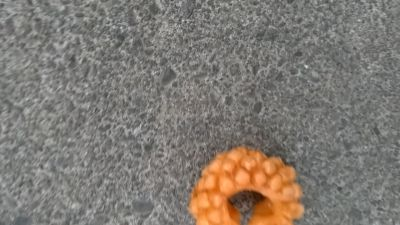eggs: (191, 146, 305, 225)
